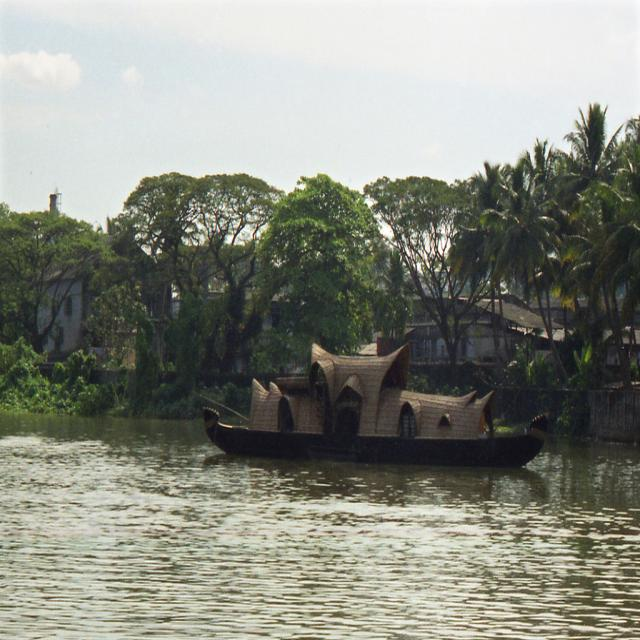Boat: (188, 338, 564, 476)
